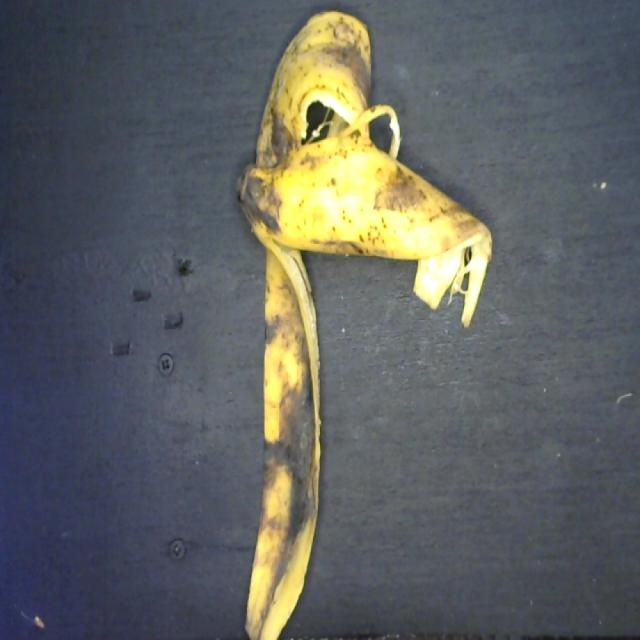biodegradable: (232, 6, 493, 640)
